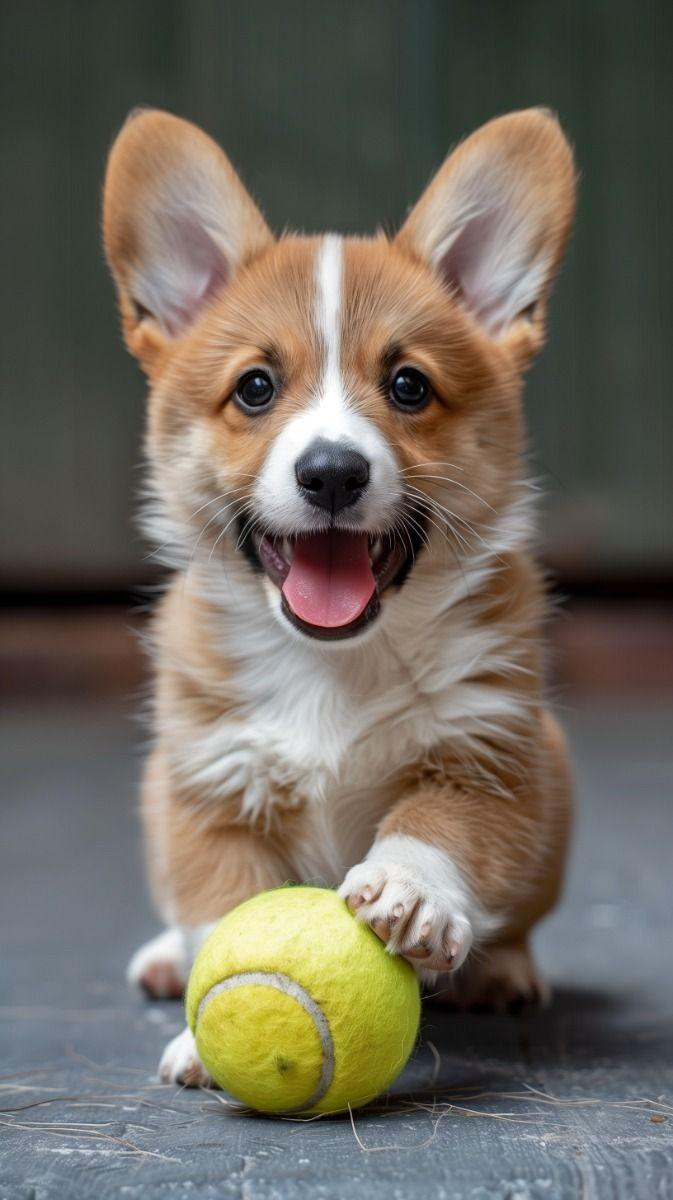puppy-dog: (100, 104, 580, 1092)
